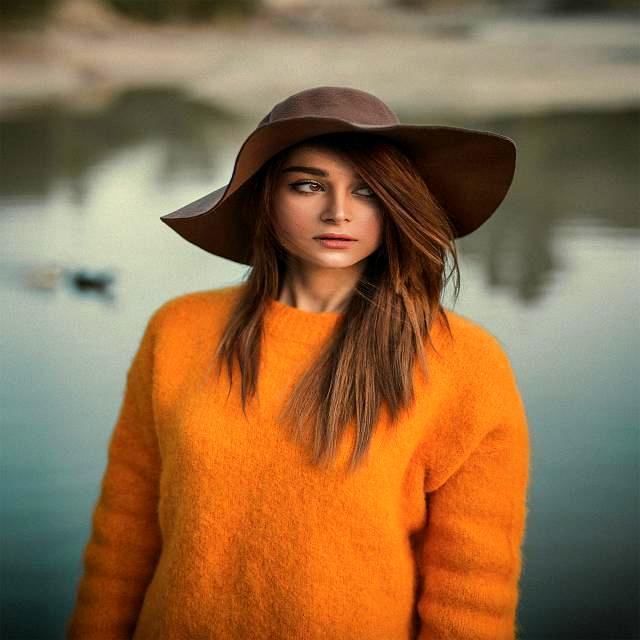no_hard_hat: (161, 87, 516, 265)
person: (68, 133, 528, 640)
